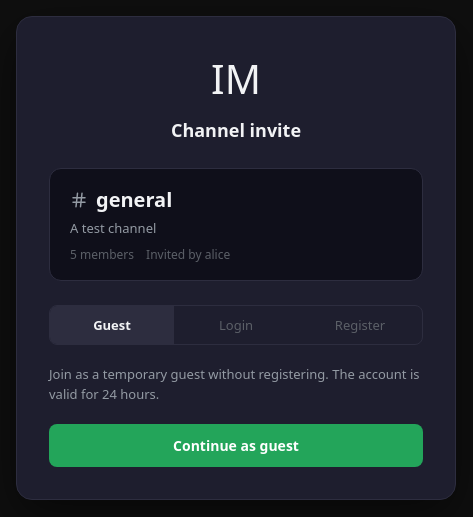
Test case: InvitePage › guest join: button shows ' Joining...' while in flight
Click the button "Continue as guest": (236, 446) [49, 424, 423, 467]
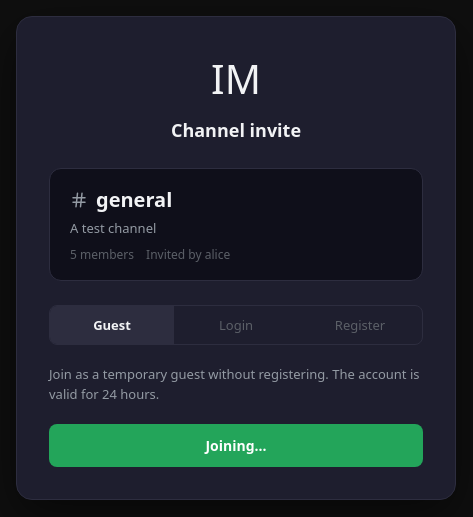
Expected: the button "Joining..." is shown, [49, 424, 423, 467]
